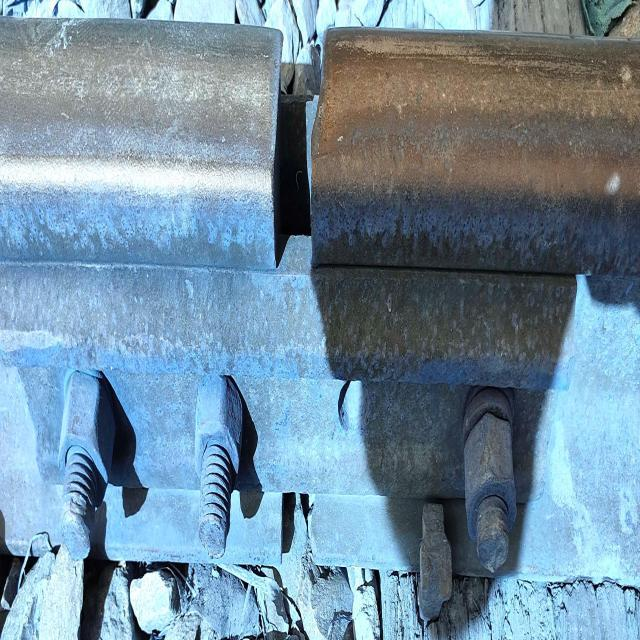Defective Joint: (9, 280, 571, 580)
